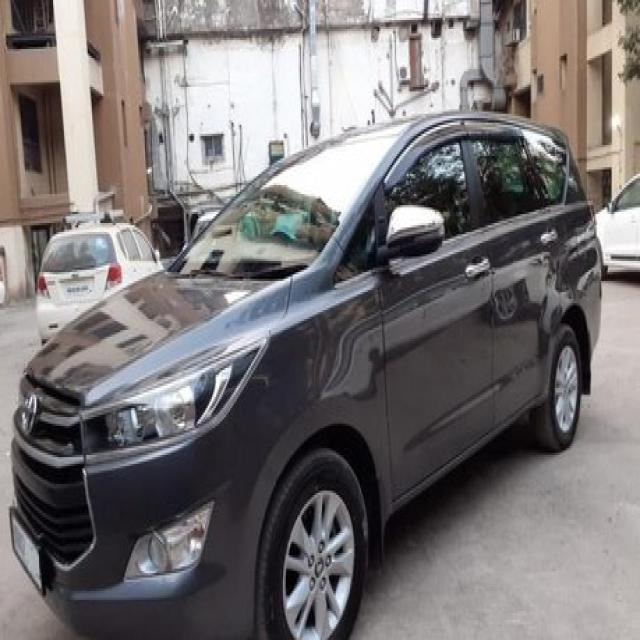light_vehicle: (9, 109, 605, 631)
